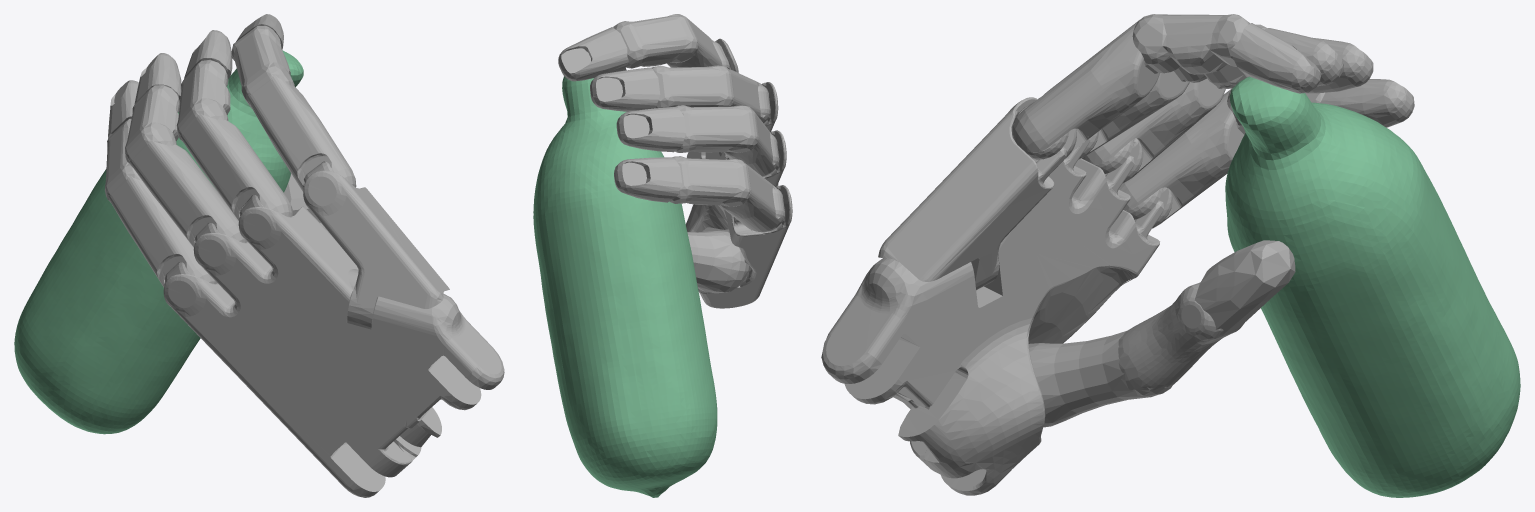
3 renders of one model, left to right at view 1: azimuth 30°, elevation 25°; view 2: azimuth 150°, elevation 25°; view 3: azimuth 270°, elevation 25°, orthographic. The views are drawn at different scales.
Visible parts, largest first — view 1: world; view 2: world; view 3: world.
Part boxes in pixels (left/top/right/bottom): world: left=14, top=14, right=504, bottom=497; world: left=533, top=14, right=792, bottom=497; world: left=821, top=14, right=1520, bottom=497.
Size of the model in its own units: 0.7096 by 1.17 by 1.41.
